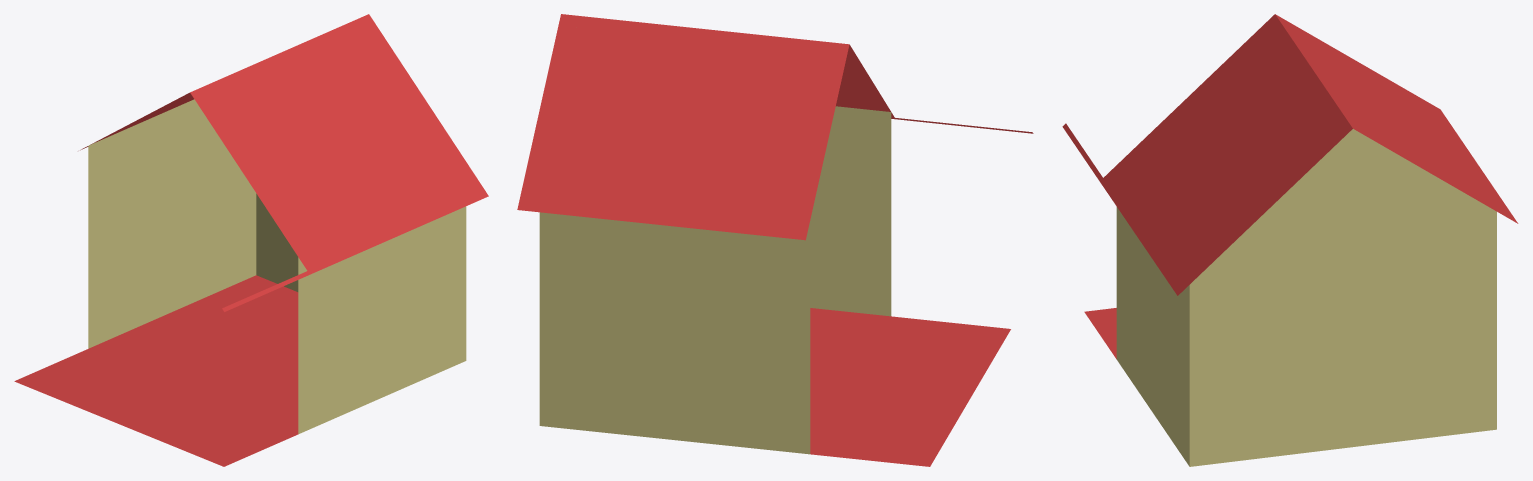
3 renders of one model, left to right at view 1: azimuth 30°, elevation 25°; view 2: azimuth 150°, elevation 25°; view 3: azimuth 270°, elevation 25°, orthographic. The views are drawn at different scales.
Size of the model in its own units: 13.57 by 12.98 by 10.23.
